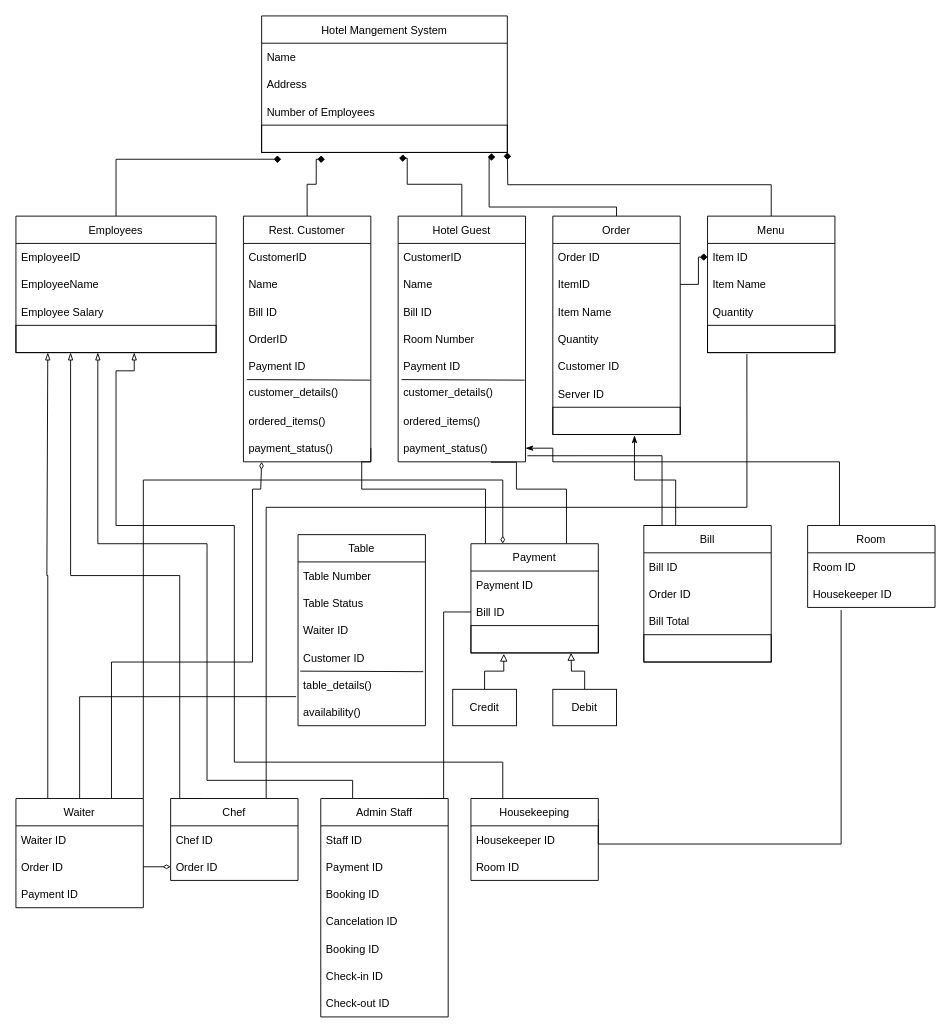
The diagram is 951 pixels wide and 1033 high, and some of its shapes have lost their labels. Each missing label, with the centre of its shape:
bill_calculation(): point 707,648
employee details(): point 115,338
is_paid(): point 534,639
items(): point 771,338
Open(): point 384,138
order_items(): point 616,420
